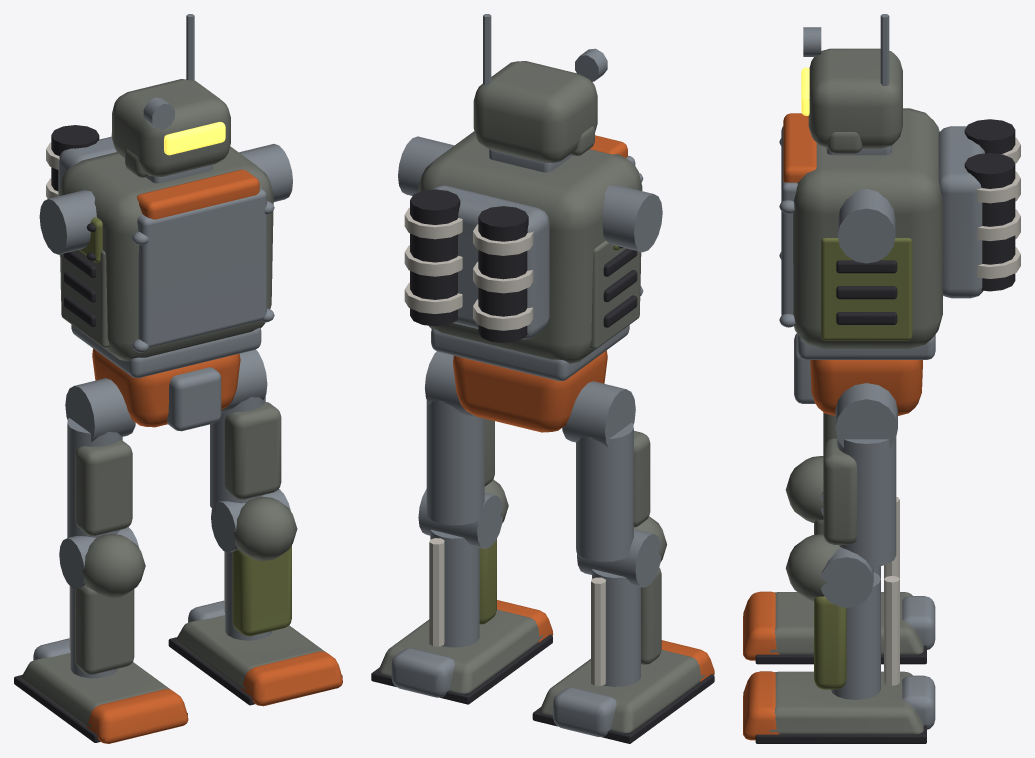
The model's file is ch_skirmisher.glb.
The picture shows the model from 3 angles, left to right: view 1: azimuth 30°, elevation 25°; view 2: azimuth 150°, elevation 25°; view 3: azimuth 270°, elevation 25°; orthographic projection. The views are drawn at different scales.
Parts seen in each view (by area): view 1: ch_skirmisher, limb_leg_l, limb_leg_r; view 2: ch_skirmisher, limb_leg_l, limb_leg_r; view 3: ch_skirmisher, limb_leg_r, limb_leg_l.
Boxes of the visible parts, x1,y1,x2,y2 form: ch_skirmisher: [39, 14, 292, 431]; limb_leg_l: [14, 378, 188, 743]; limb_leg_r: [168, 349, 342, 706]; ch_skirmisher: [398, 14, 662, 432]; limb_leg_l: [532, 381, 714, 743]; limb_leg_r: [371, 351, 553, 704]; ch_skirmisher: [779, 14, 1020, 415]; limb_leg_r: [743, 383, 935, 743]; limb_leg_l: [743, 412, 935, 664].
Size of the model in its own units: 0.3353 by 0.8312 by 0.307.
